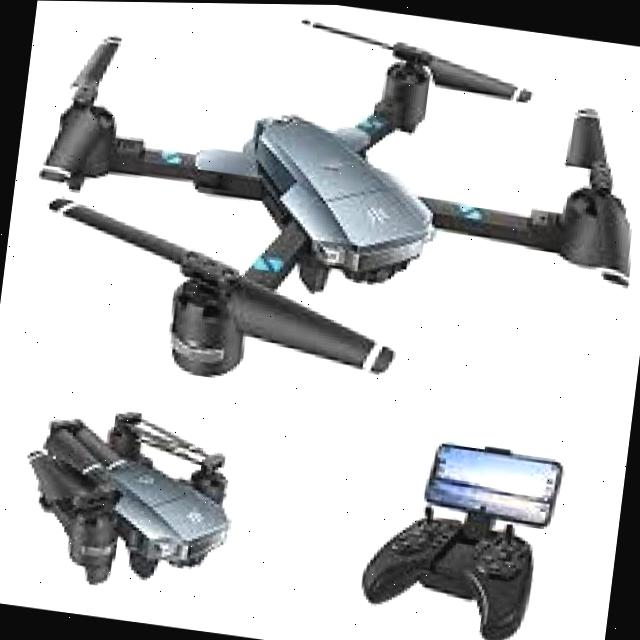drone: (0, 0, 640, 432)
